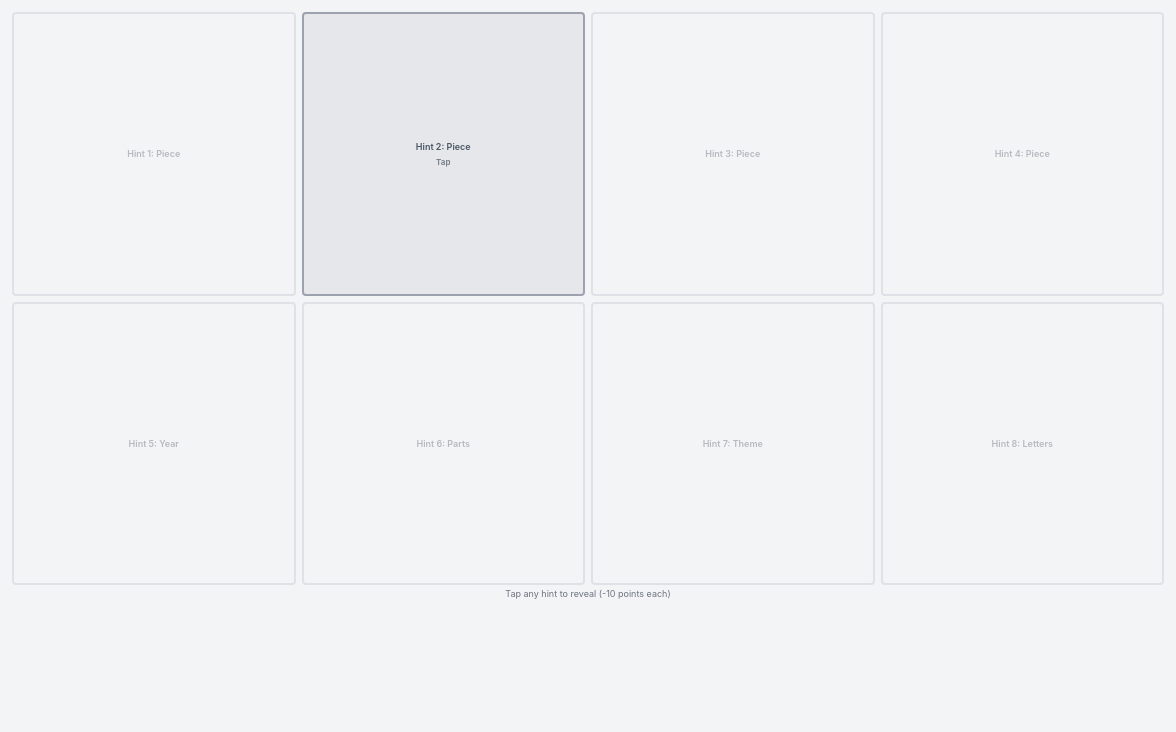
Scenario: Hints › shows "No piece" text if piece is not available for hint
Note: Reveal hint 2 (should show "No piece" since part at index 5 doesn't exist)
Click the button with aria-label "Hint 2: Piece: Click to reveal": (443, 154) top-left (302, 12), bottom-right (585, 296)
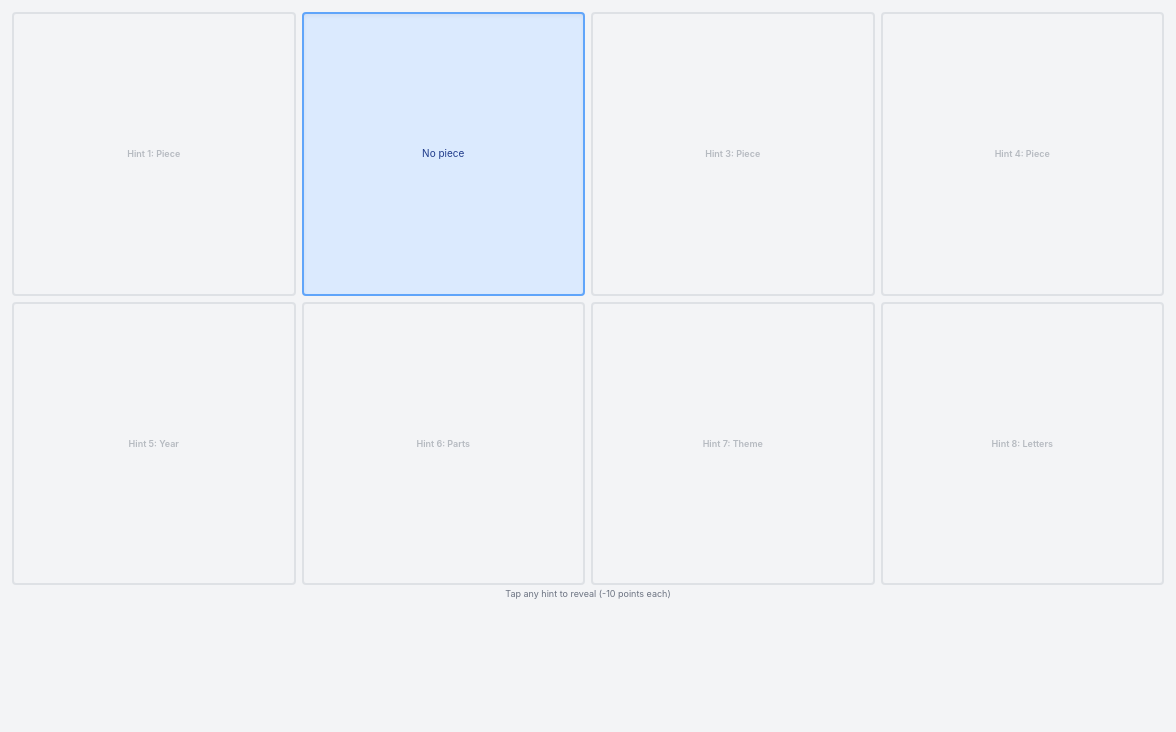
expect the text "No piece" is shown: met, box top-left (422, 146), bottom-right (464, 161)
